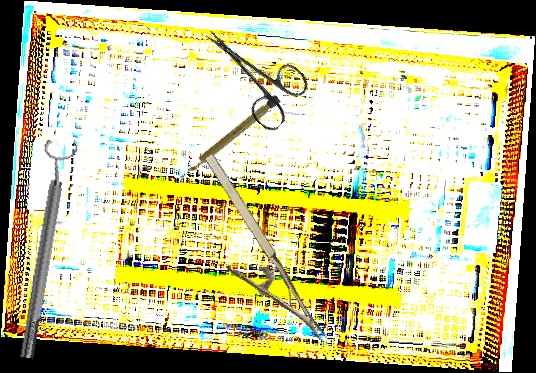Fixation Ring: (7, 139, 81, 361)
Iris Scissors: (185, 9, 316, 135)
Needle Holder: (173, 150, 328, 364)
Scalpel Handle: (184, 93, 282, 176)
